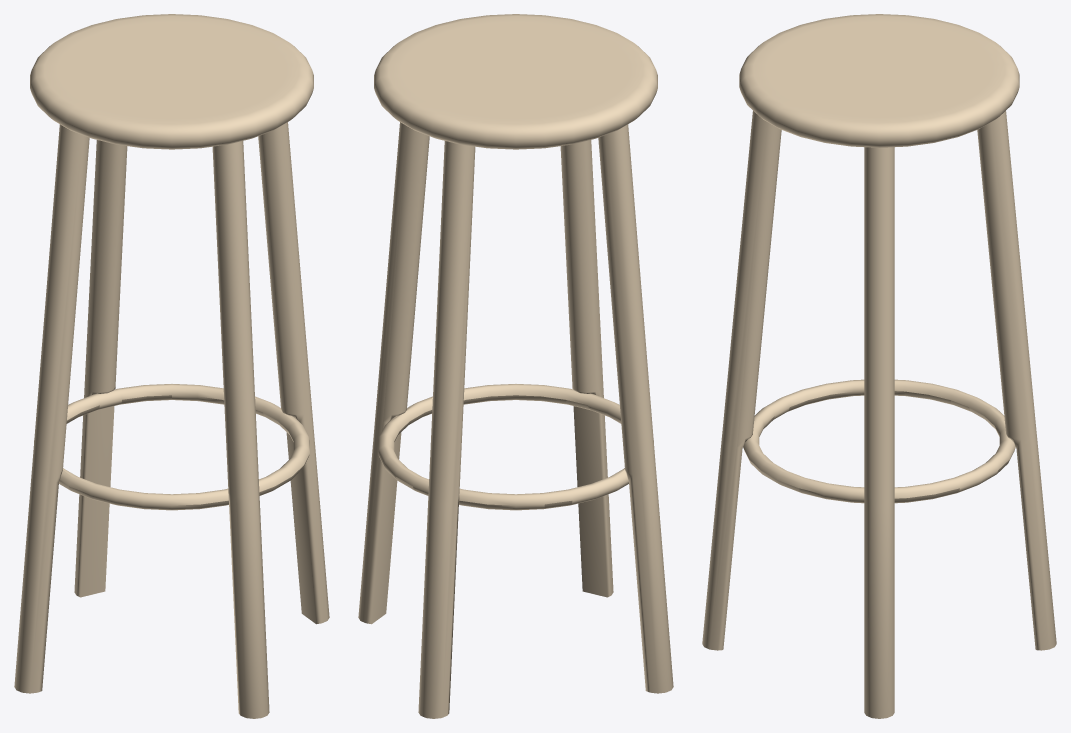
The model's file is HMI_Solo_Stool_3D.fbx.
3 renders of one model, left to right at view 1: azimuth 30°, elevation 25°; view 2: azimuth 150°, elevation 25°; view 3: azimuth 270°, elevation 25°, orthographic.
Visible parts, largest first — view 1: polySurface15; view 2: polySurface15; view 3: polySurface15.
Part boxes in pixels (x1,y1,x2,y2): polySurface15: (14, 14, 329, 718); polySurface15: (358, 14, 673, 718); polySurface15: (702, 14, 1056, 718).
Size of the model in its own units: 17.33 by 30.98 by 17.33.
